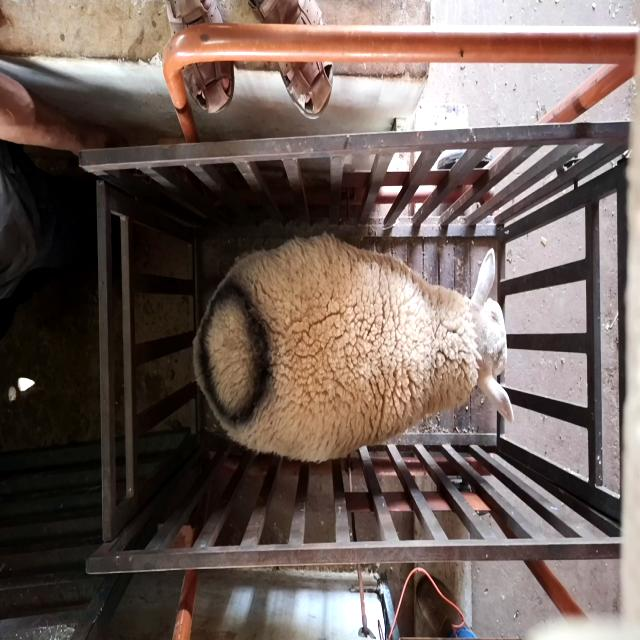sheep: (191, 231, 515, 463)
